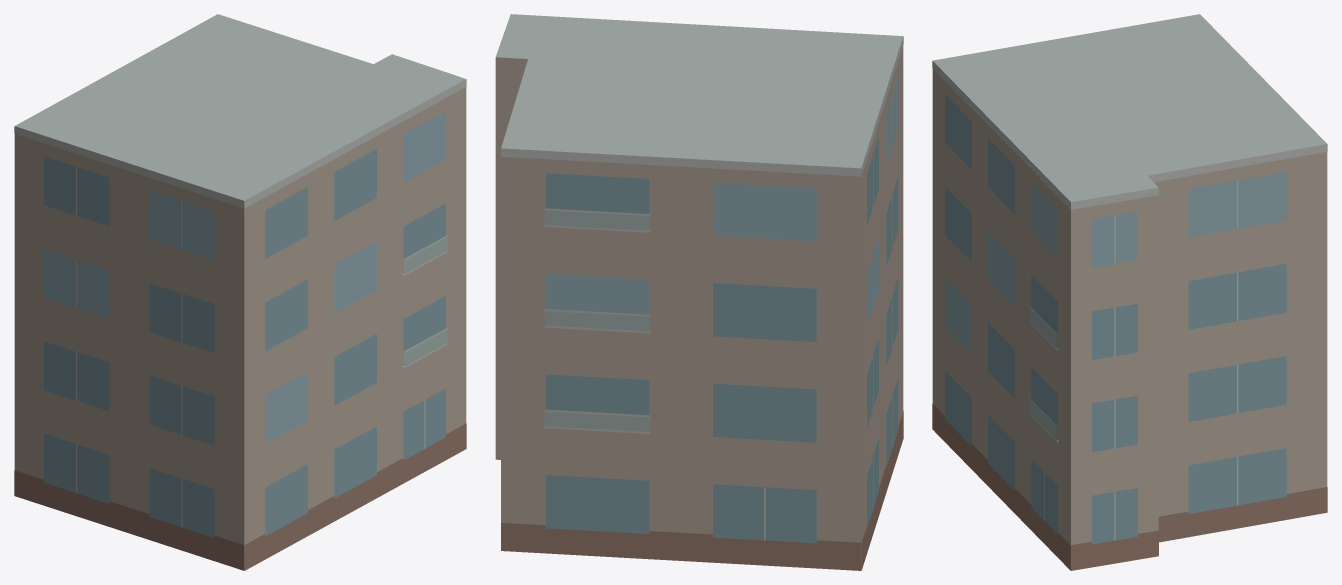
File: survey-upis-32919354.glb
3 views of the same model, side by side, from view 1: azimuth 30°, elevation 25°; view 2: azimuth 150°, elevation 25°; view 3: azimuth 270°, elevation 25° (orthographic). The views are drawn at different scales.
Parts seen in each view (by area): view 1: survey-upis-32919354.tmp; view 2: survey-upis-32919354.tmp; view 3: survey-upis-32919354.tmp.
Boxes of the visible parts, <box> form: survey-upis-32919354.tmp: <box>14,14,466,570</box>; survey-upis-32919354.tmp: <box>495,14,903,570</box>; survey-upis-32919354.tmp: <box>932,14,1327,570</box>.
Size of the model in its own units: 12.93 by 11.8 by 11.47.
